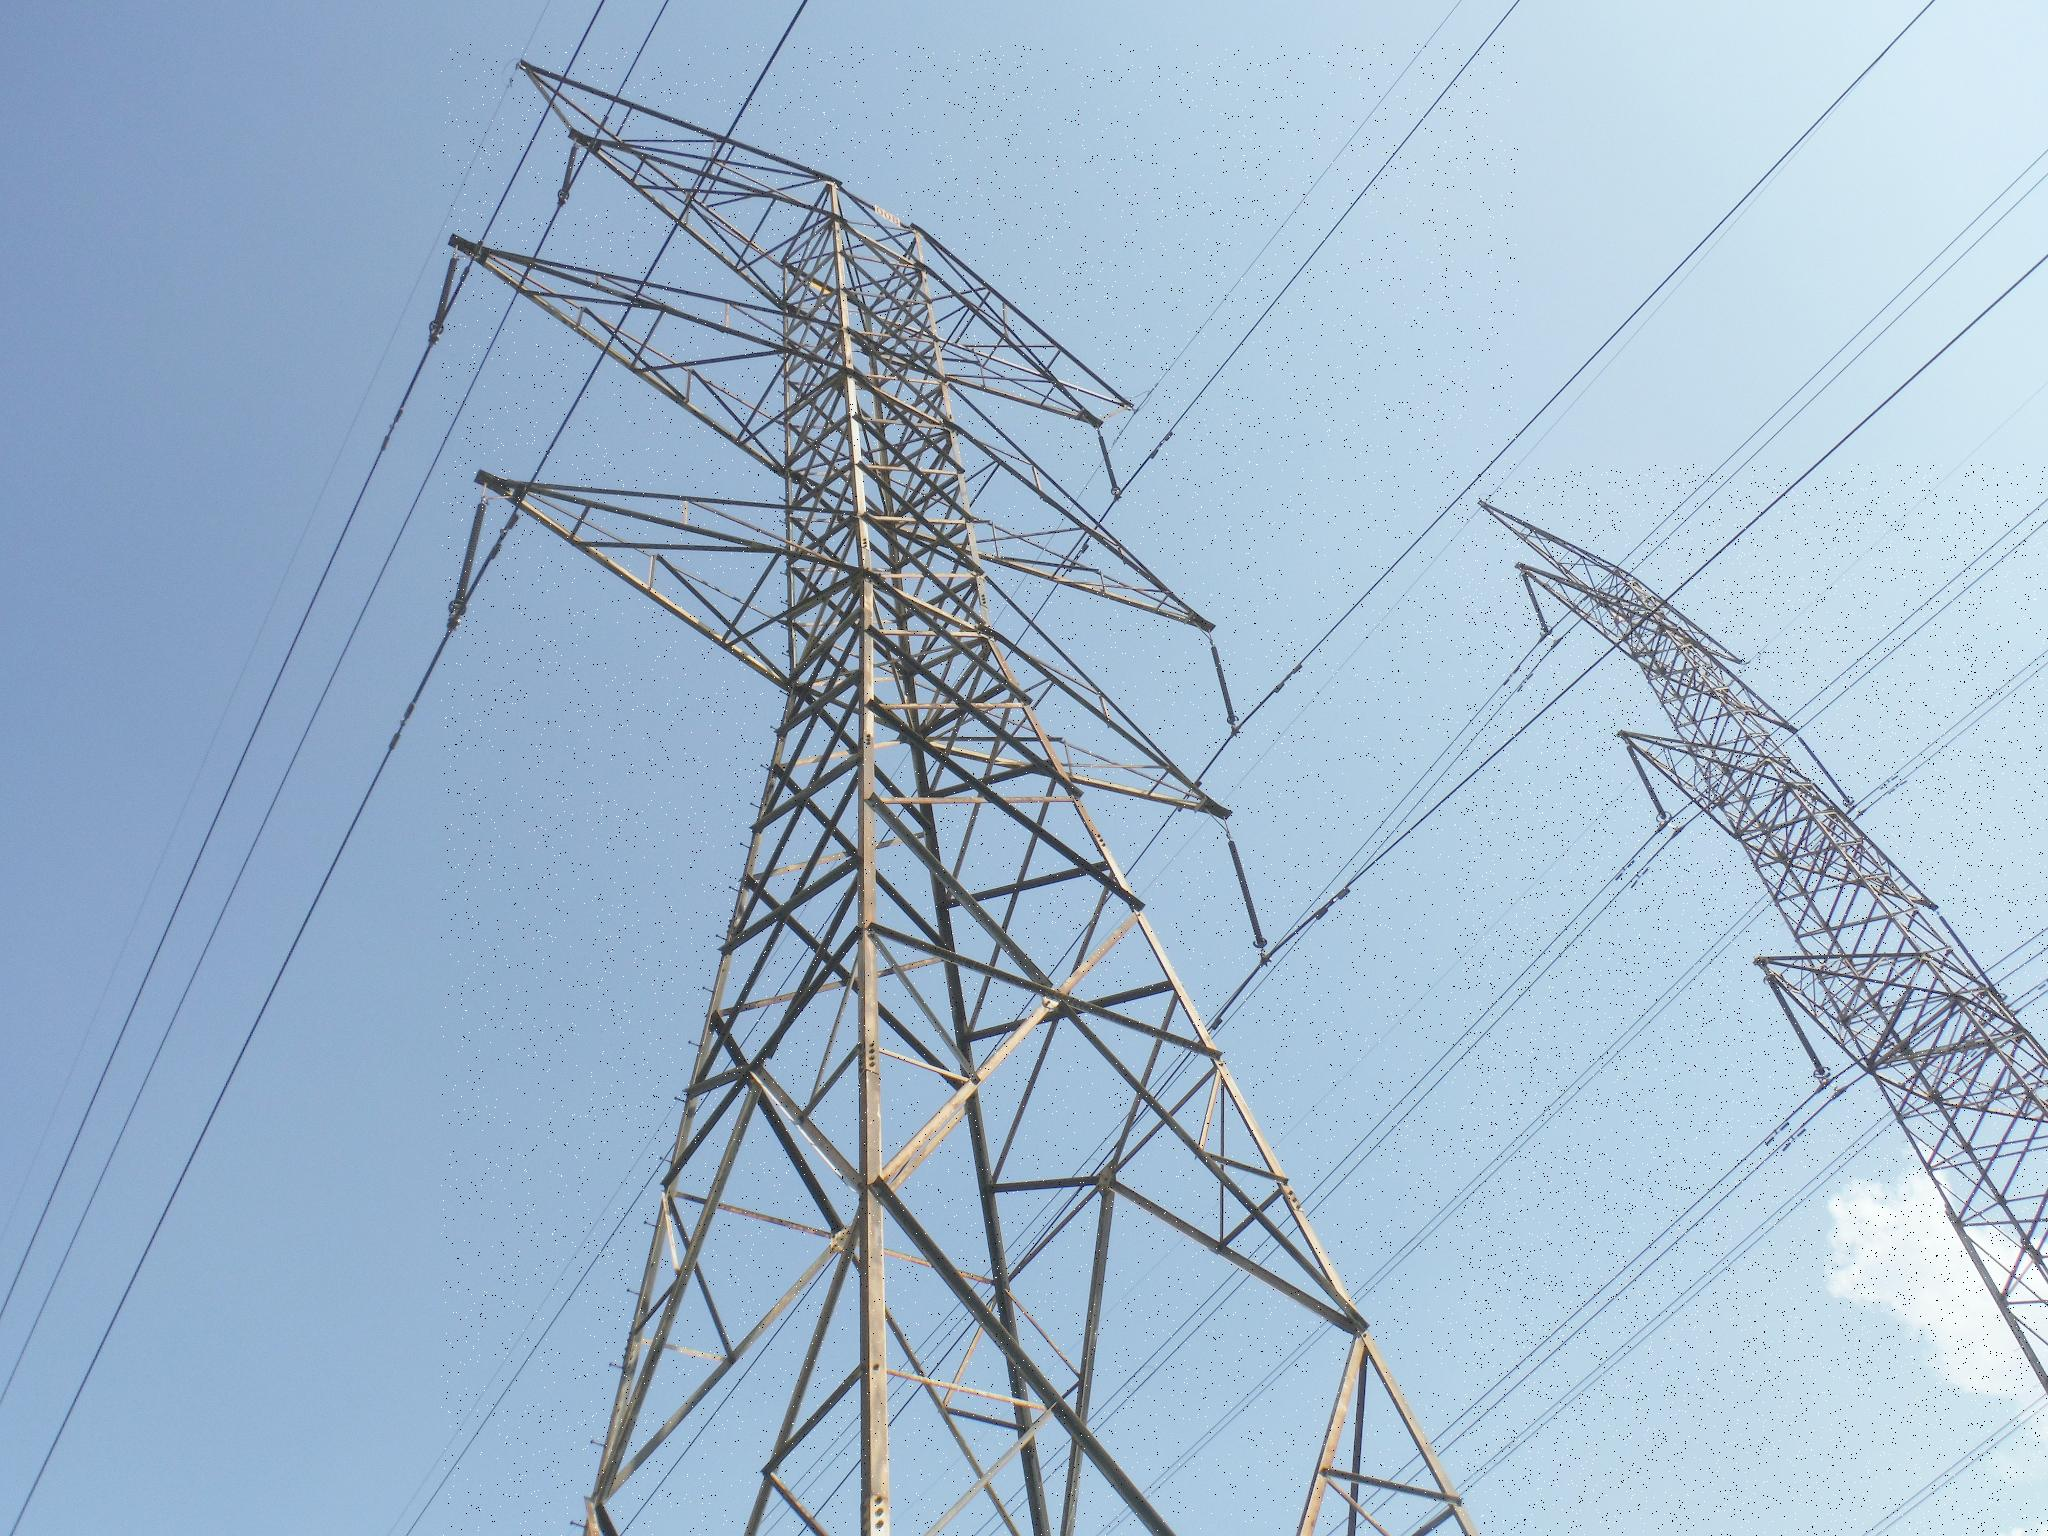cable tower: (441, 44, 1519, 1536), (1460, 464, 2048, 1536)
